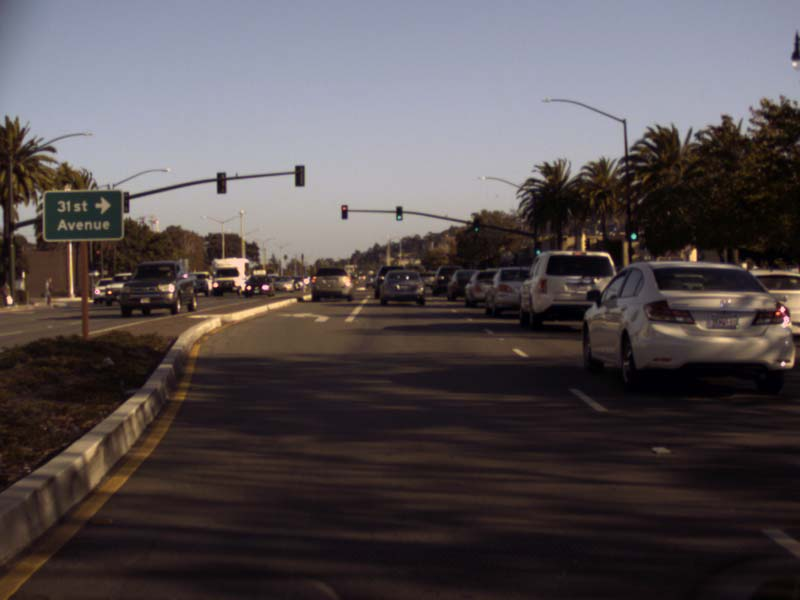Green: (396, 206, 403, 221), (534, 242, 541, 256), (473, 220, 479, 233)
Red: (340, 204, 348, 219)
